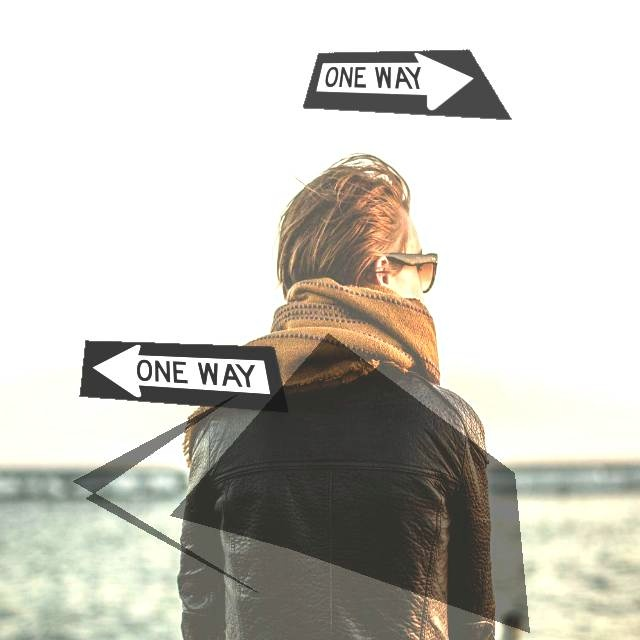ONE_WAY_ left: (79, 340, 289, 413)
ONE_WAY_ right: (302, 49, 512, 120)
